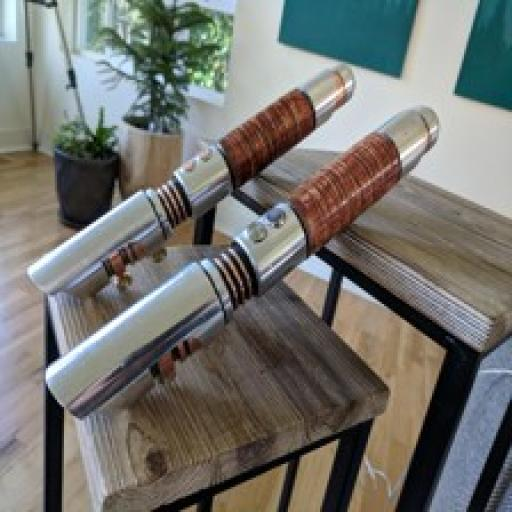lightsaber: (47, 107, 441, 420), (25, 66, 353, 304)
